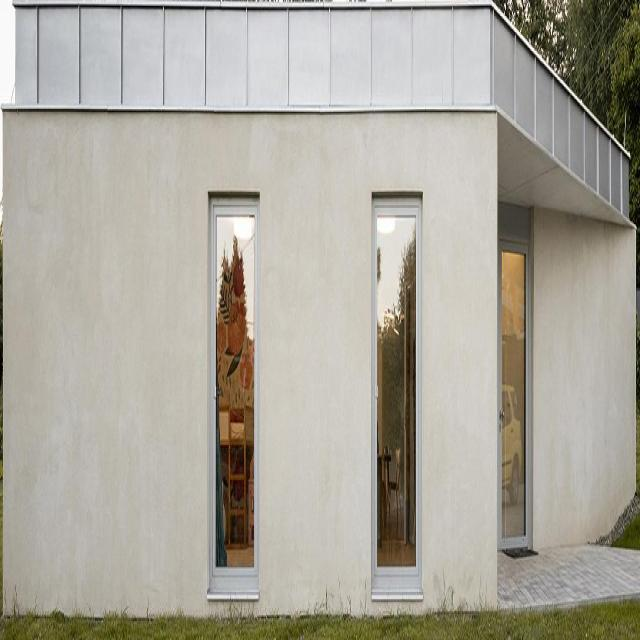door: (497, 209, 532, 551)
railing: (14, 0, 629, 222)
window: (209, 196, 259, 595), (372, 200, 421, 592)
